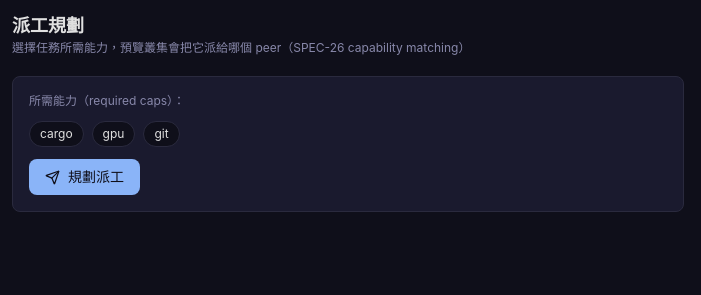
DispatchPlanner screen › does NOT crash when planDispatch rejects (shows error, testid intact)
The width and height of the screenshot is (701, 295).
Step 1. Click the button "gpu" → x=114, y=134, box left=92, top=121, right=135, bottom=147
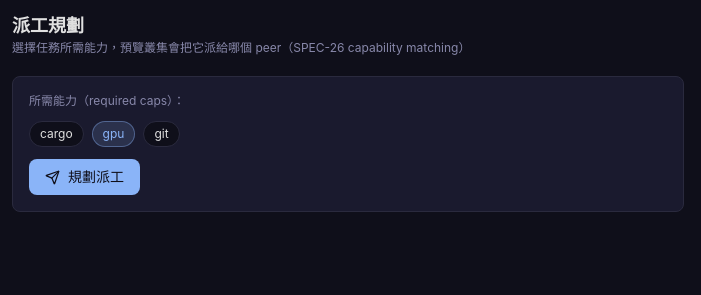
Step 2. Click the button "規劃派工" → x=84, y=177, box left=29, top=159, right=140, bottom=195
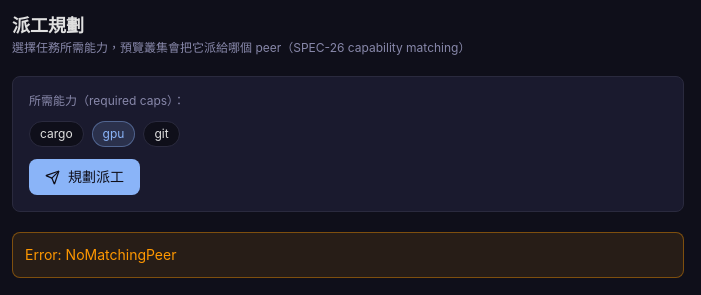
Check: the text "Error: NoMatchingPeer" is shown, box left=12, top=232, right=684, bottom=278
